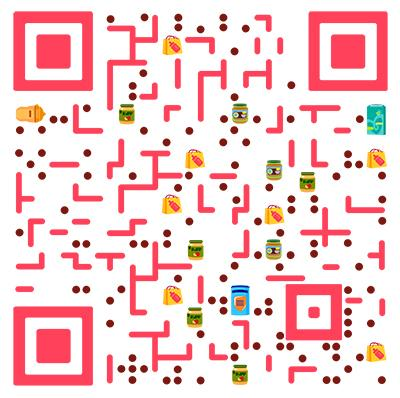QRCode: (6, 6, 393, 393)
